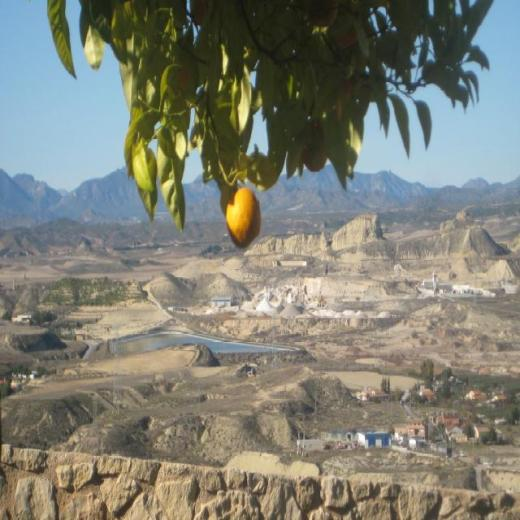Grape: (217, 180, 258, 238)
